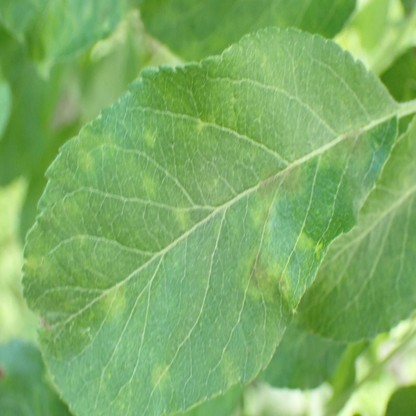powdery_mildew: (353, 184, 375, 214)
scab: (71, 131, 114, 176), (323, 128, 370, 168), (243, 245, 274, 300), (259, 162, 300, 202), (49, 193, 87, 222), (100, 284, 125, 321), (251, 199, 275, 236), (25, 252, 50, 283), (219, 350, 239, 388), (115, 384, 132, 416), (275, 265, 290, 300), (151, 363, 169, 391), (294, 231, 314, 253), (174, 206, 189, 232), (143, 127, 157, 149), (143, 177, 156, 199), (193, 118, 204, 136), (316, 242, 322, 258)
